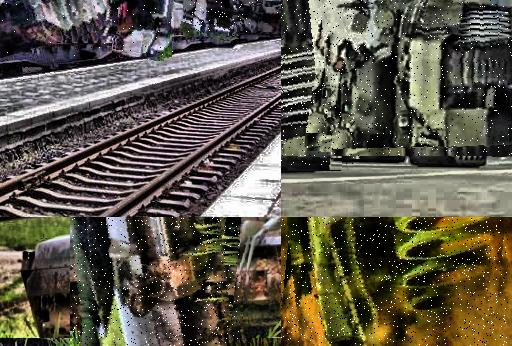tanks: (330, 1, 512, 157), (289, 218, 508, 346), (72, 218, 237, 346), (282, 1, 362, 147), (1, 1, 113, 59), (115, 1, 173, 58), (186, 1, 239, 36), (232, 1, 266, 33), (252, 6, 282, 35)
